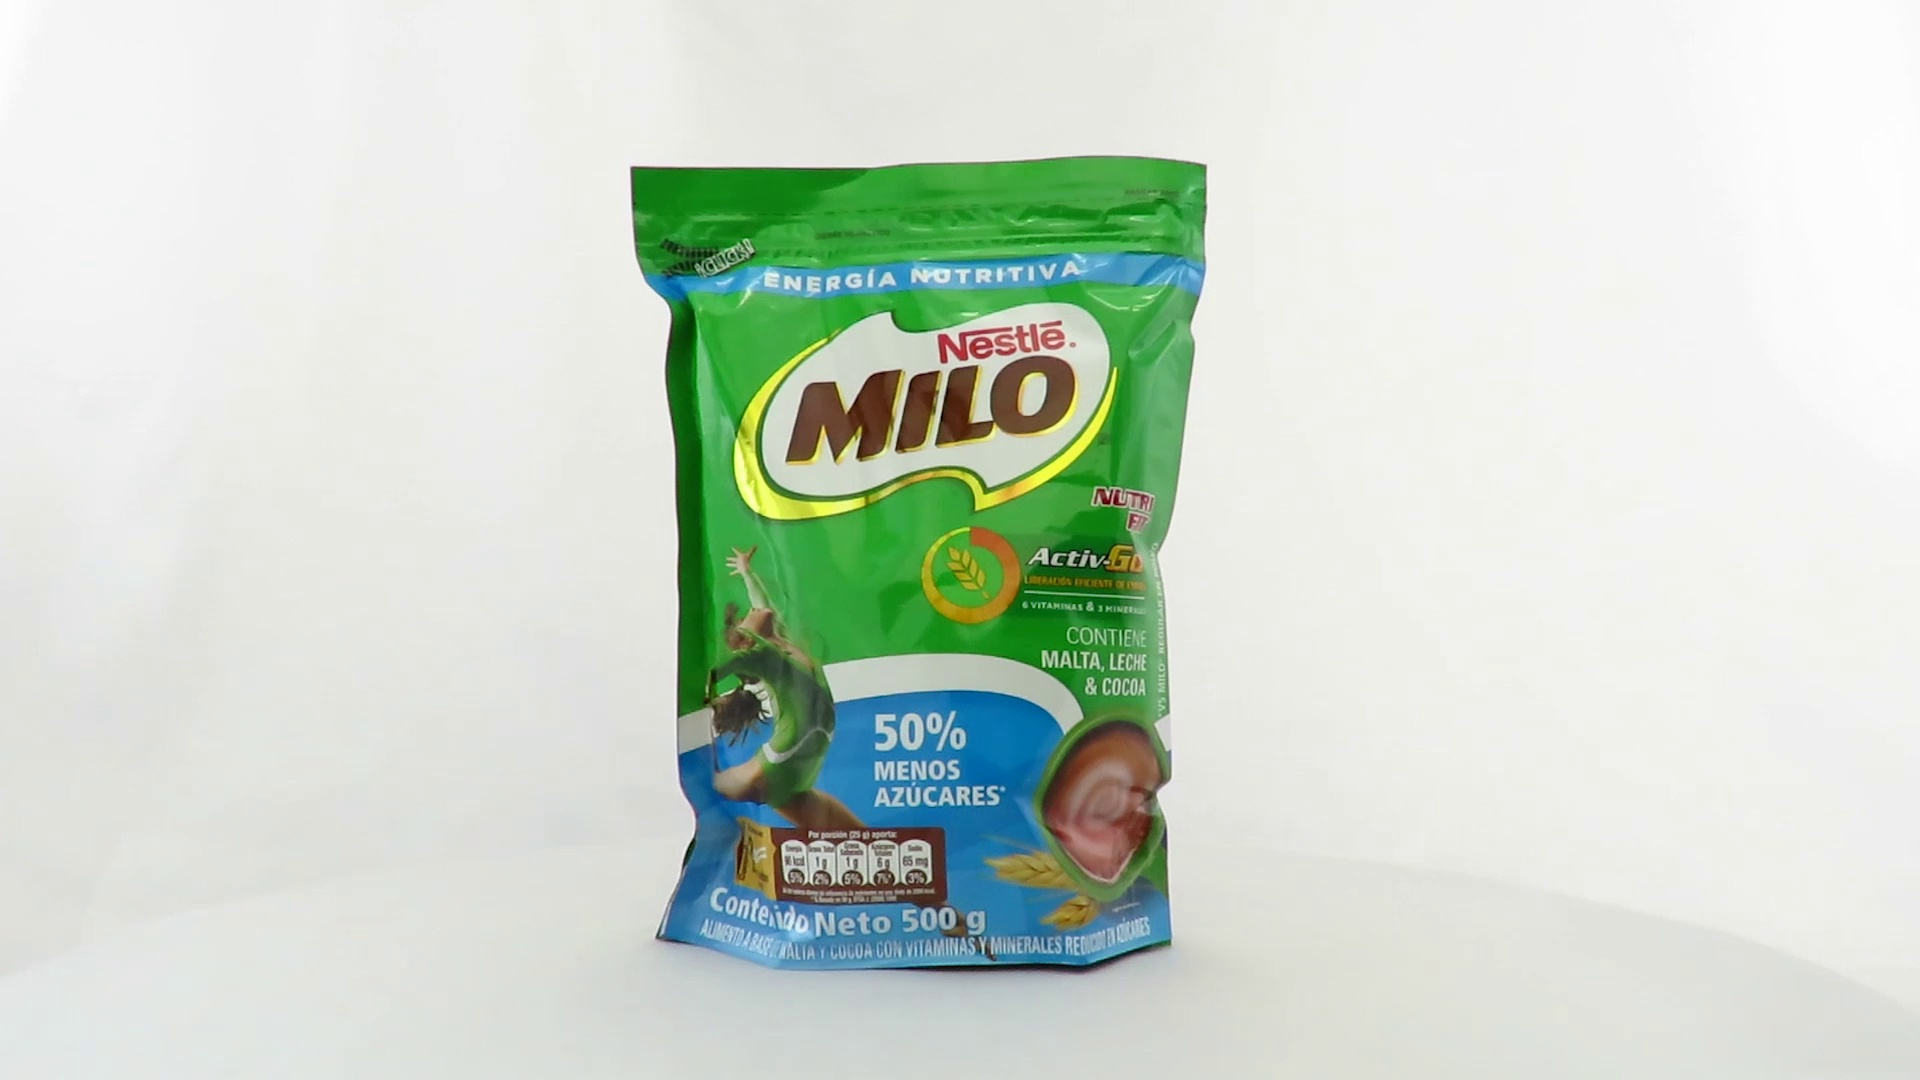COL0170205DYP50000: (625, 150, 1213, 981)
